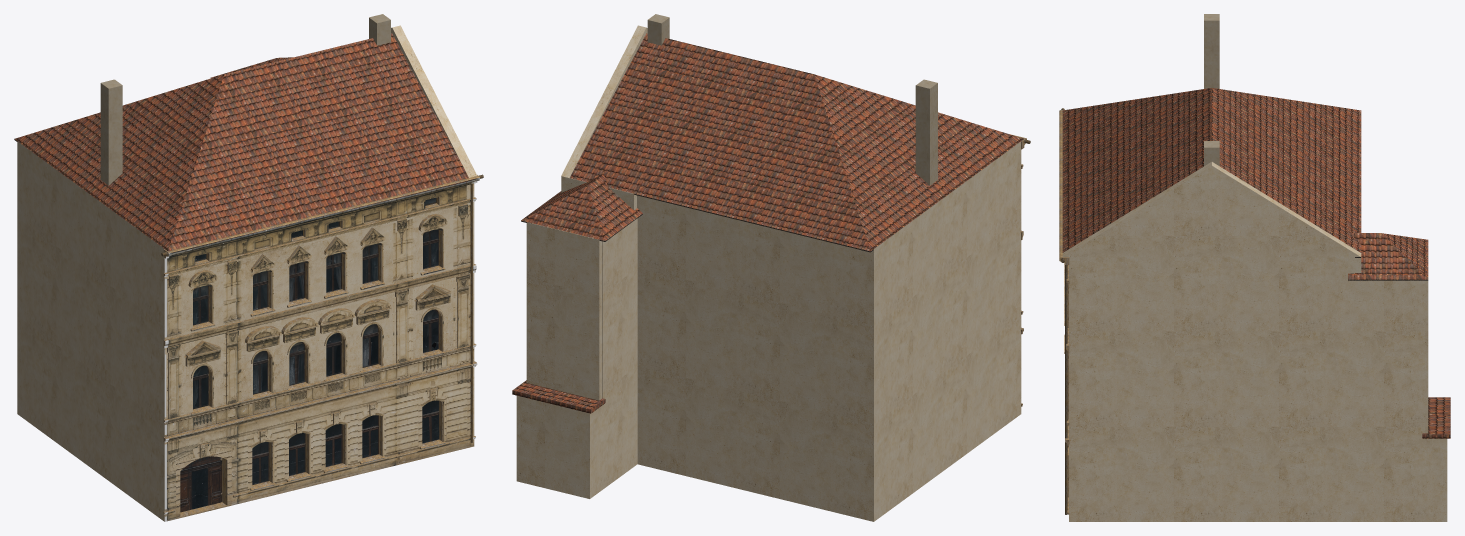
File: 262-gpt-v2.glb
3 views of the same model, side by side, from view 1: azimuth 30°, elevation 25°; view 2: azimuth 150°, elevation 25°; view 3: azimuth 270°, elevation 25° (orthographic). The views are drawn at different scales.
Visible parts, largest first — view 1: CP_262_Masonry, CP_262_Roof, CP_262_Cornice_first_string_0, CP_262_Cornice_main_cornice_0, CP_262_Chimney_0, CP_262_Cornice_ground_string_0, CP_262_Gable_R_firewall, CP_262_Cornice_second_string_0, CP_262_Cornice_first_sill_band_0, CP_262_Pilaster_1Rf, CP_262_Pilaster_6Rf, CP_262_Pilaster_1Lf (+4 smaller); view 2: CP_262_Masonry, CP_262_Roof, CP_262_AtticClosure_2, CP_262_Right_Strip, CP_262_Annex_Kassa, CP_262_WingRoof_Right_Strip, CP_262_Chimney_0, CP_262_Gable_R_firewall, CP_262_Annex_Roof, CP_262_Chimney_1; view 3: CP_262_Masonry, CP_262_Roof, CP_262_Right_Strip, CP_262_Gable_R_firewall, CP_262_WingRoof_Right_Strip, CP_262_Annex_Kassa, CP_262_Chimney_0, CP_262_AtticClosure_2, CP_262_Annex_Roof, CP_262_Downpipe_0, CP_262_Cornice_main_cornice_0.
Boxes of the visible parts, box(x1,y1,x2,y2) form: CP_262_Masonry: box(17, 141, 474, 521); CP_262_Roof: box(14, 33, 468, 251); CP_262_Cornice_first_string_0: box(163, 264, 476, 348); CP_262_Cornice_main_cornice_0: box(163, 175, 479, 258); CP_262_Chimney_0: box(100, 79, 122, 185); CP_262_Cornice_ground_string_0: box(163, 361, 477, 442); CP_262_Gable_R_firewall: box(391, 25, 477, 177); CP_262_Cornice_second_string_0: box(163, 197, 476, 276); CP_262_Cornice_first_sill_band_0: box(163, 343, 476, 422); CP_262_Pilaster_1Rf: box(226, 336, 237, 404); CP_262_Pilaster_6Rf: box(457, 279, 468, 348); CP_262_Pilaster_1Lf: box(168, 350, 179, 418); CP_262_Masonry: box(637, 141, 1021, 521); CP_262_Roof: box(570, 33, 1023, 251); CP_262_AtticClosure_2: box(526, 222, 602, 400); CP_262_Right_Strip: box(602, 218, 637, 489); CP_262_Annex_Kassa: box(516, 395, 602, 498); CP_262_WingRoof_Right_Strip: box(521, 174, 642, 240); CP_262_Chimney_0: box(915, 79, 937, 185); CP_262_Gable_R_firewall: box(561, 25, 647, 177); CP_262_Annex_Roof: box(512, 380, 605, 413); CP_262_Chimney_1: box(647, 14, 669, 45); CP_262_Masonry: box(1069, 257, 1354, 521); CP_262_Roof: box(1062, 88, 1361, 252); CP_262_Right_Strip: box(1354, 280, 1422, 521); CP_262_Gable_R_firewall: box(1062, 162, 1361, 256); CP_262_WingRoof_Right_Strip: box(1348, 233, 1428, 279); CP_262_Annex_Kassa: box(1421, 436, 1447, 521); CP_262_Chimney_0: box(1204, 14, 1219, 88); CP_262_AtticClosure_2: box(1422, 280, 1428, 433); CP_262_Annex_Roof: box(1422, 397, 1450, 438); CP_262_Downpipe_0: box(1065, 265, 1067, 514); CP_262_Cornice_main_cornice_0: box(1059, 110, 1069, 264).
Size of the model in its own units: 17.1 by 19.3 by 18.6.
9 materials, 9 textured.
